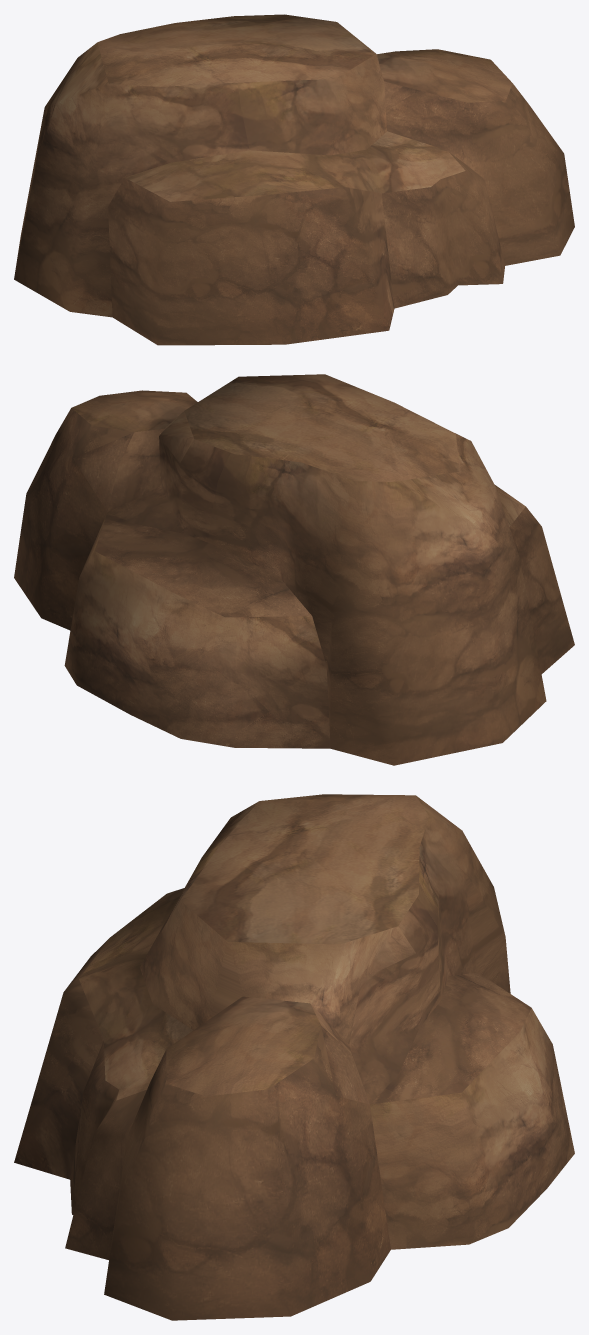
Rendered from handan_field_d_y01c.fbx.
3 views of the same model, one above another, from view 1: azimuth 30°, elevation 25°; view 2: azimuth 150°, elevation 25°; view 3: azimuth 270°, elevation 25° (orthographic). The views are drawn at different scales.
Visible parts, largest first — view 1: handan_field_d_y01c; view 2: handan_field_d_y01c; view 3: handan_field_d_y01c.
Part boxes in pixels (x1,y1,x2,y2): handan_field_d_y01c: [14, 14, 574, 345]; handan_field_d_y01c: [14, 374, 574, 765]; handan_field_d_y01c: [14, 794, 574, 1320].
Bounding box in the file's own units: 903 × 393 × 702.
